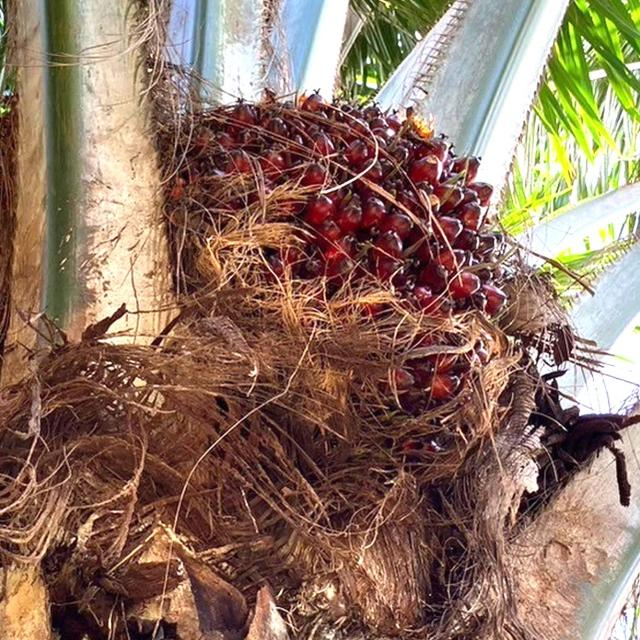ripe: (173, 88, 520, 432)
